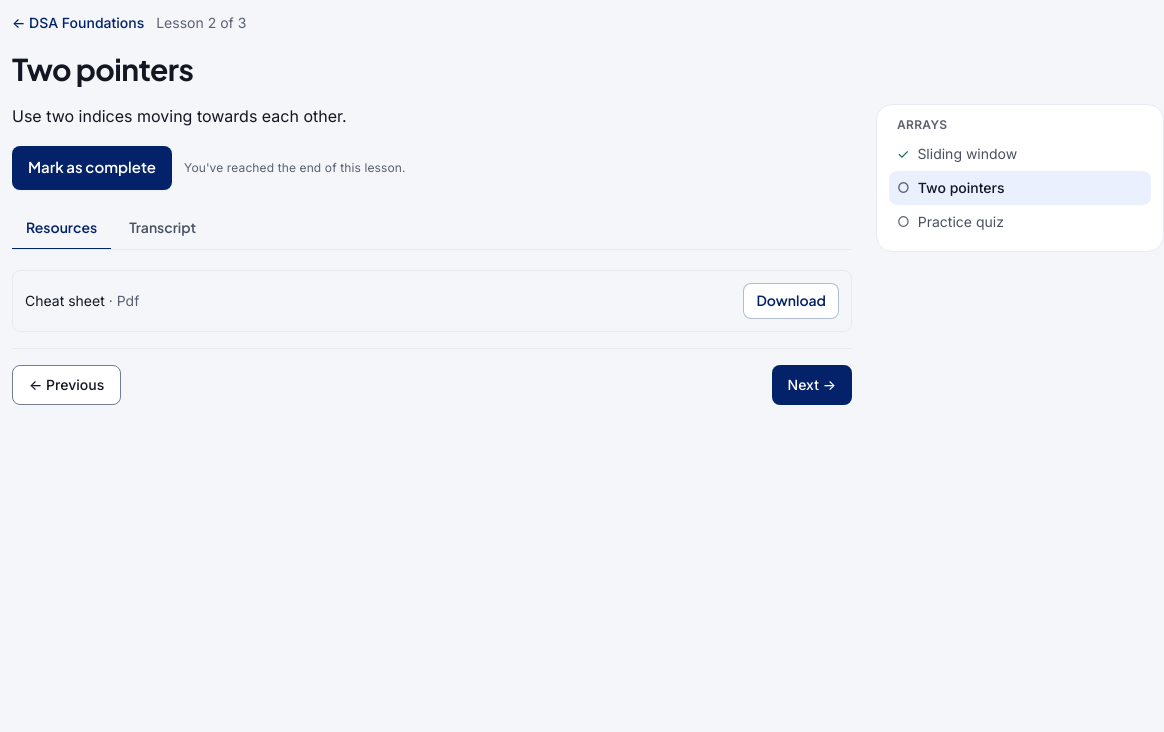
Test: LessonView (PLY-002) › renders an article, wires the activity tracker and records completion evidence
Expected: the text "Use two indices moving towards each other." is shown, [12,106,347,126]
Expected: the text "Lesson 2 of 3" is shown, [156,12,246,34]
What coordinates should you click on to do the following:
click the button "Mark as complete"
I would click on:
 (92, 168)
Its box is [12,146,172,190].
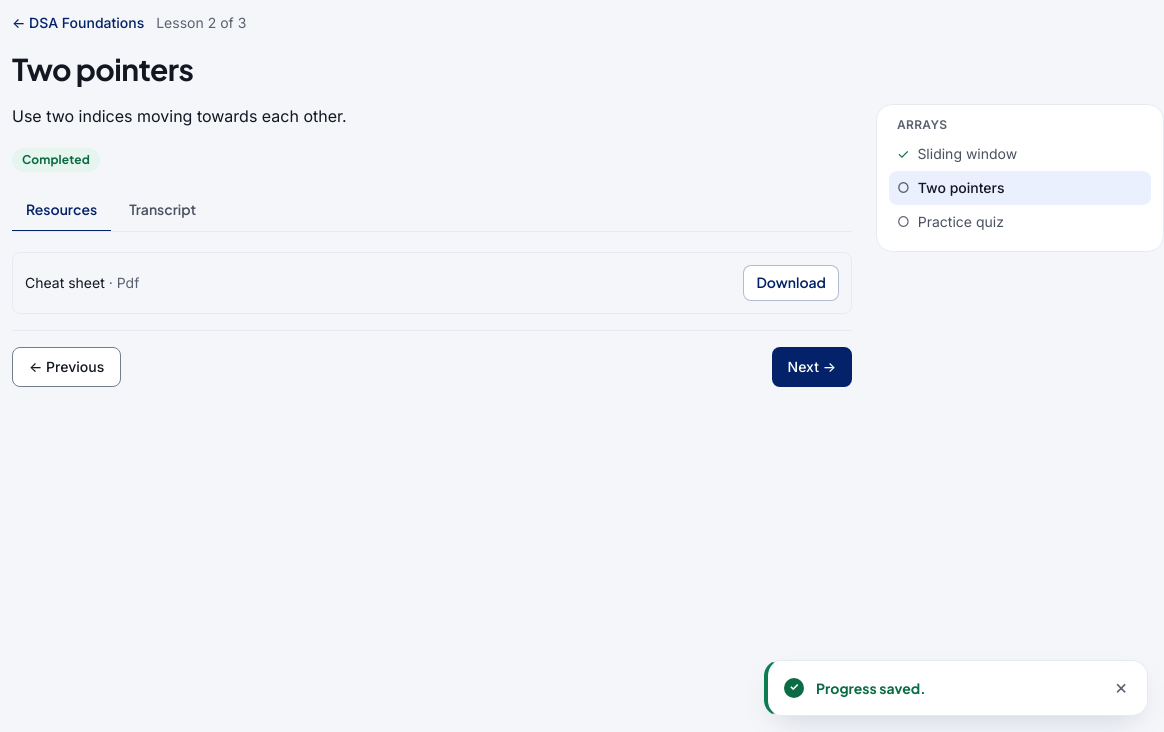
Now the text "Completed" is shown, box [12,148,100,172]
